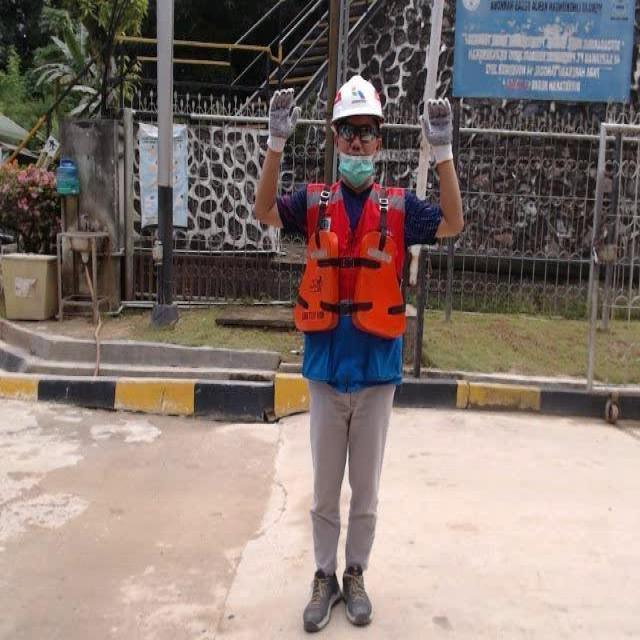gloves: (420, 94, 455, 169), (263, 87, 300, 154)
goggles: (336, 127, 383, 145)
helmet: (329, 74, 388, 126)
safety_vest: (293, 182, 406, 385)
